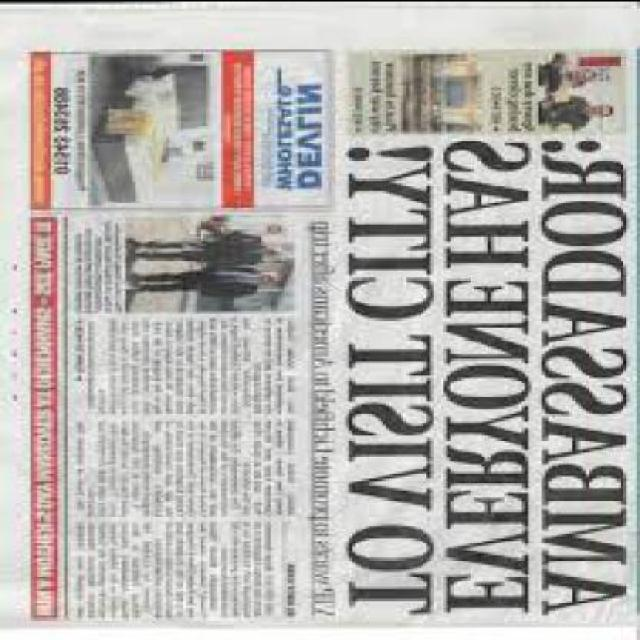PAPER: (3, 2, 639, 626)
